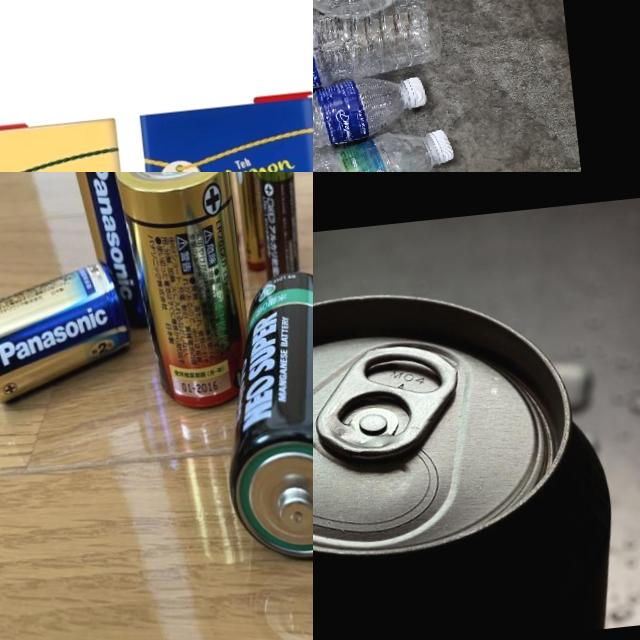aba de lata: (313, 336, 468, 475)
bateria: (110, 172, 263, 418), (207, 266, 313, 563), (0, 257, 140, 408), (62, 172, 184, 339), (249, 172, 312, 294), (188, 172, 243, 254), (229, 172, 272, 273)
caixinha: (136, 87, 313, 172)
garrafa plástica: (313, 0, 449, 111), (313, 72, 414, 171), (313, 129, 442, 172)
lata: (313, 267, 624, 640)
tampa plástica: (428, 128, 454, 164), (406, 75, 427, 108)
